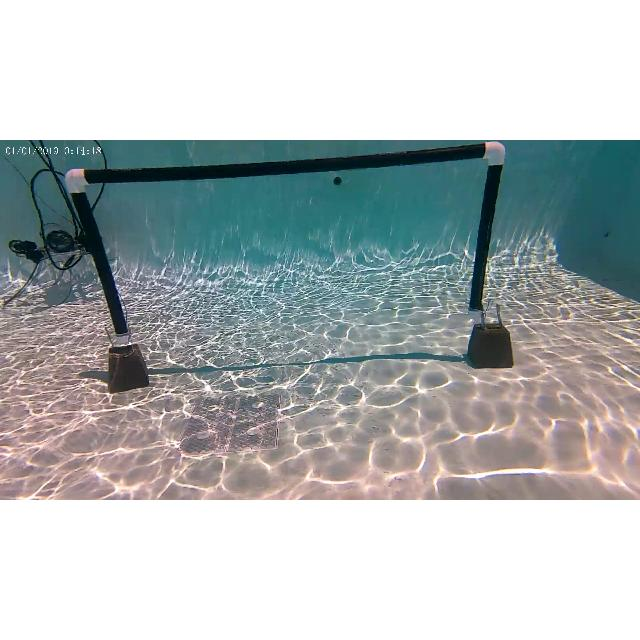prequal gate: (64, 140, 506, 344)
prequal gate leg r: (469, 147, 511, 353)
